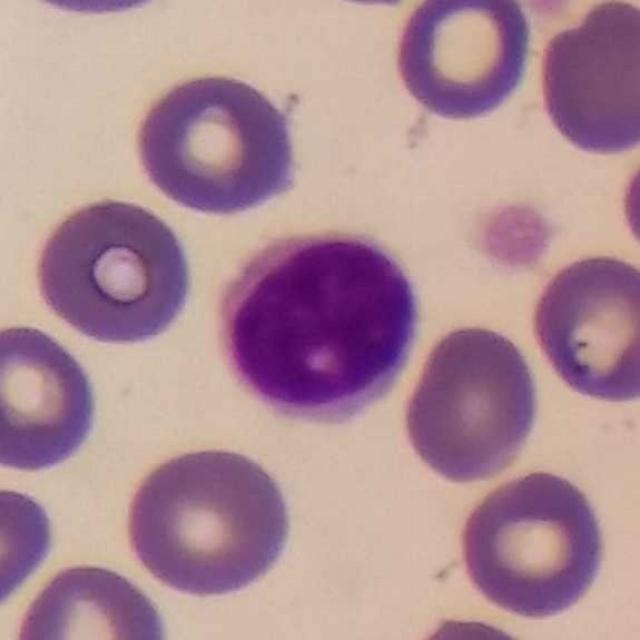Platelets: (465, 194, 561, 277), (614, 162, 640, 248)
RBC: (204, 219, 430, 432), (118, 440, 298, 602), (24, 190, 200, 352), (128, 66, 307, 220), (453, 464, 613, 623), (398, 318, 546, 488), (387, 0, 539, 126), (525, 247, 640, 409), (531, 5, 640, 164), (0, 318, 105, 479), (7, 555, 175, 640), (0, 480, 60, 621), (393, 610, 555, 640), (29, 0, 172, 26)
